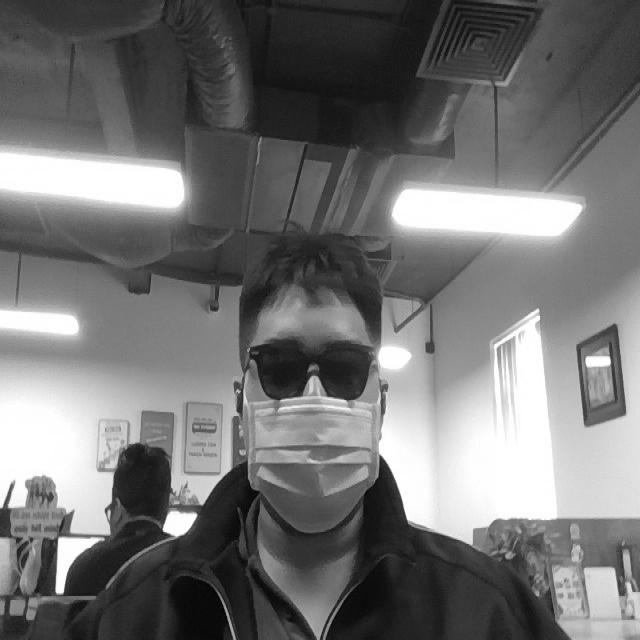fake: (241, 397, 385, 530), (245, 336, 385, 403)
